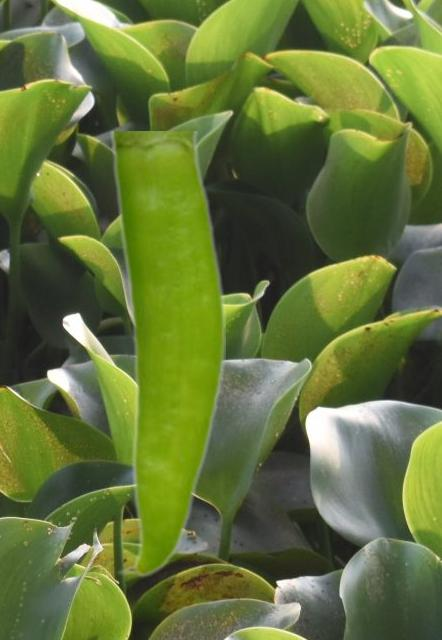green_chili: (108, 131, 224, 577)
